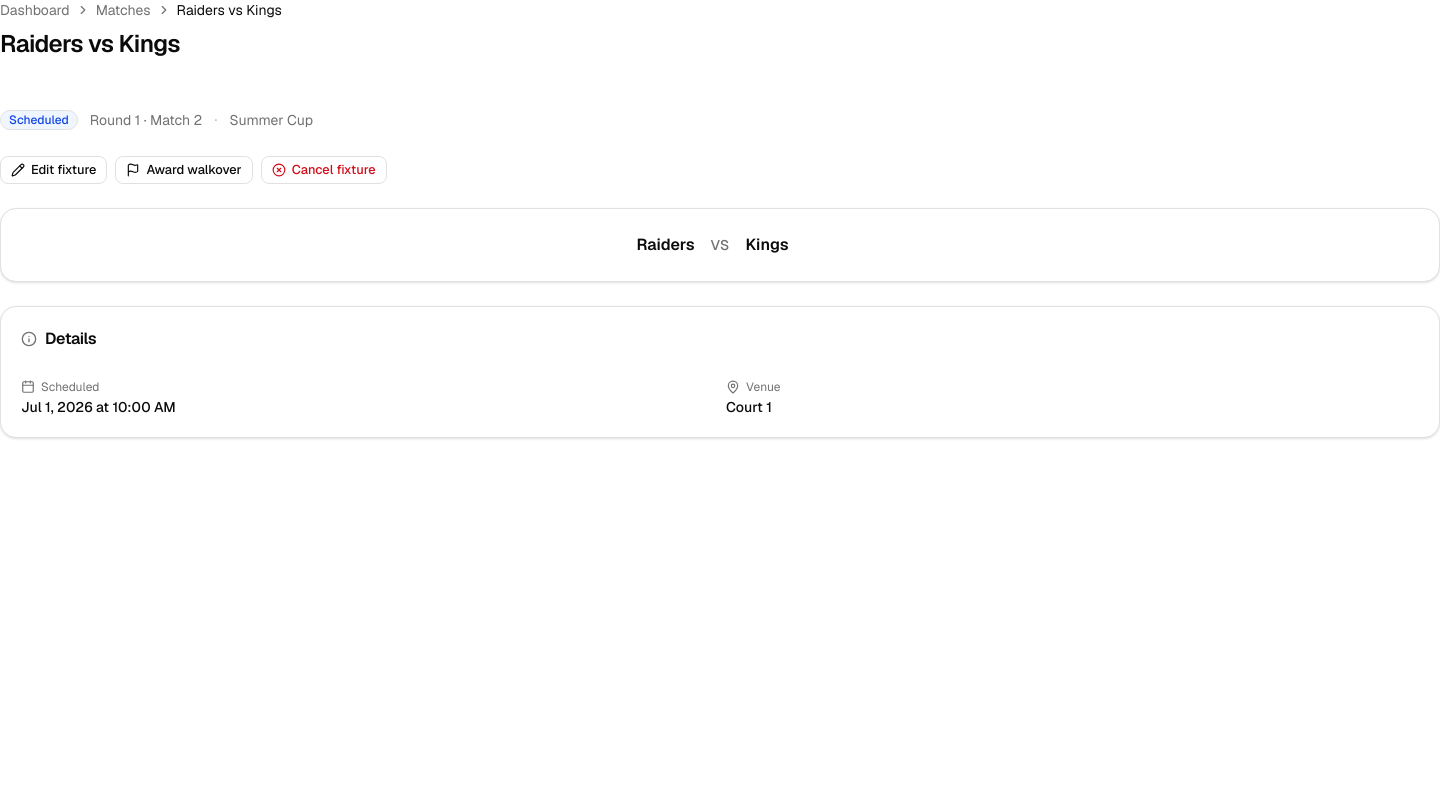
Test: MatchDetailPage — walkover › requires a winner and reason before the walkover can be submitted
Click the button "Award walkover" at x=184, y=170, box [115,156,253,184]
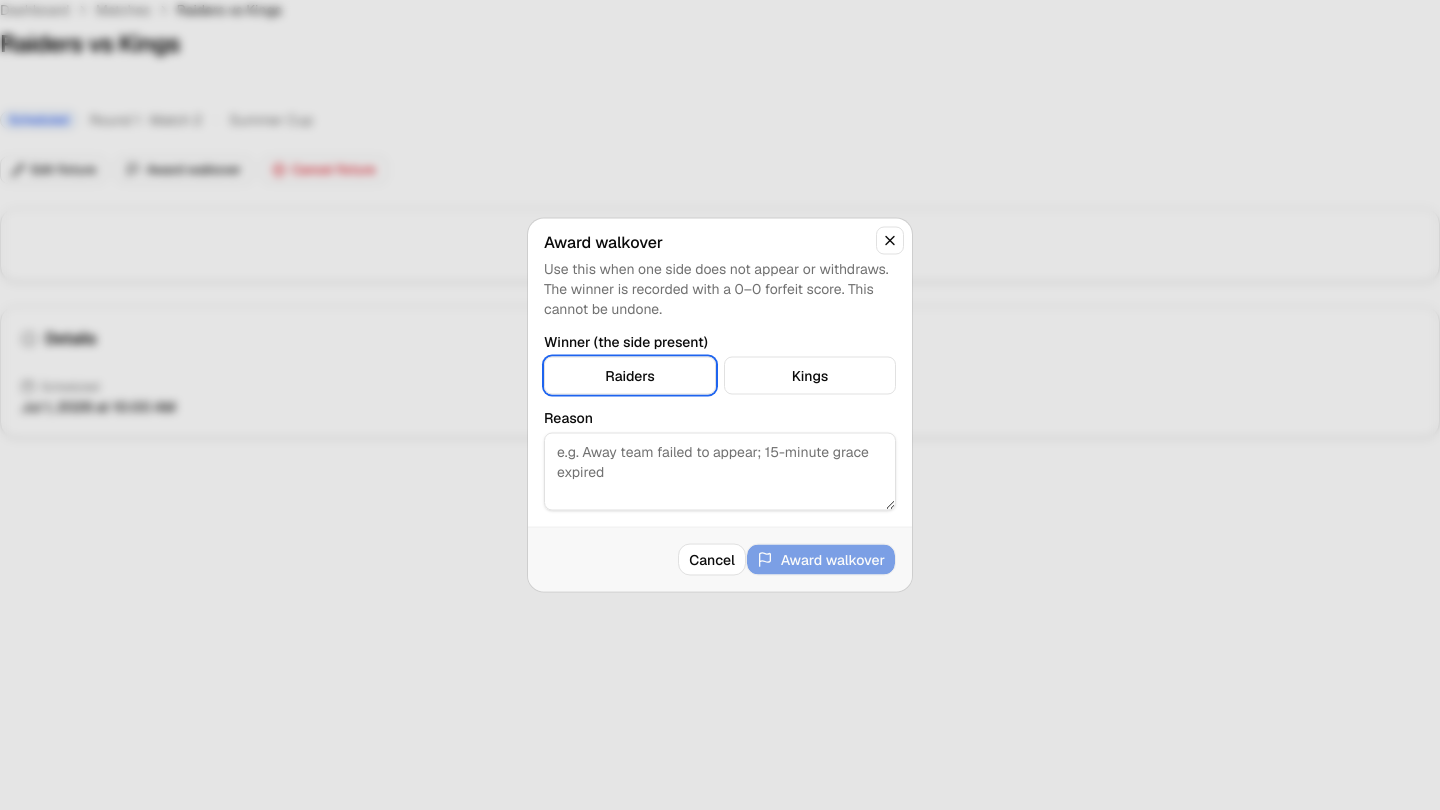
Expected: the button "Award walkover" is disabled, [746,544,896,576]
Click the button "Kings" at x=810, y=376, box [724,356,896,394]
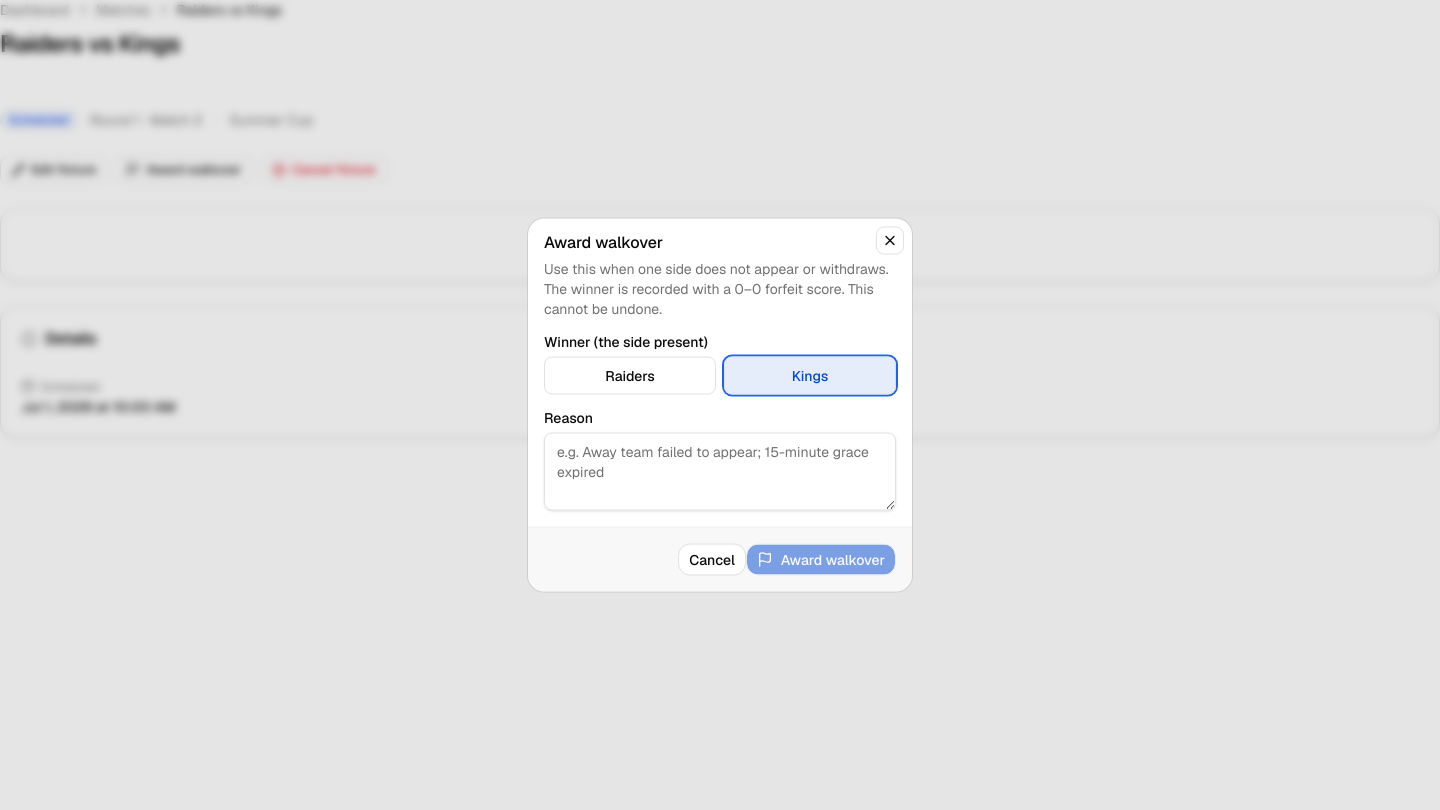
Expected: the button "Award walkover" is disabled, [746,544,896,576]
Type "Home team no-show" into the text box labelled "Reason" at x=720, y=472, box [544,432,896,510]
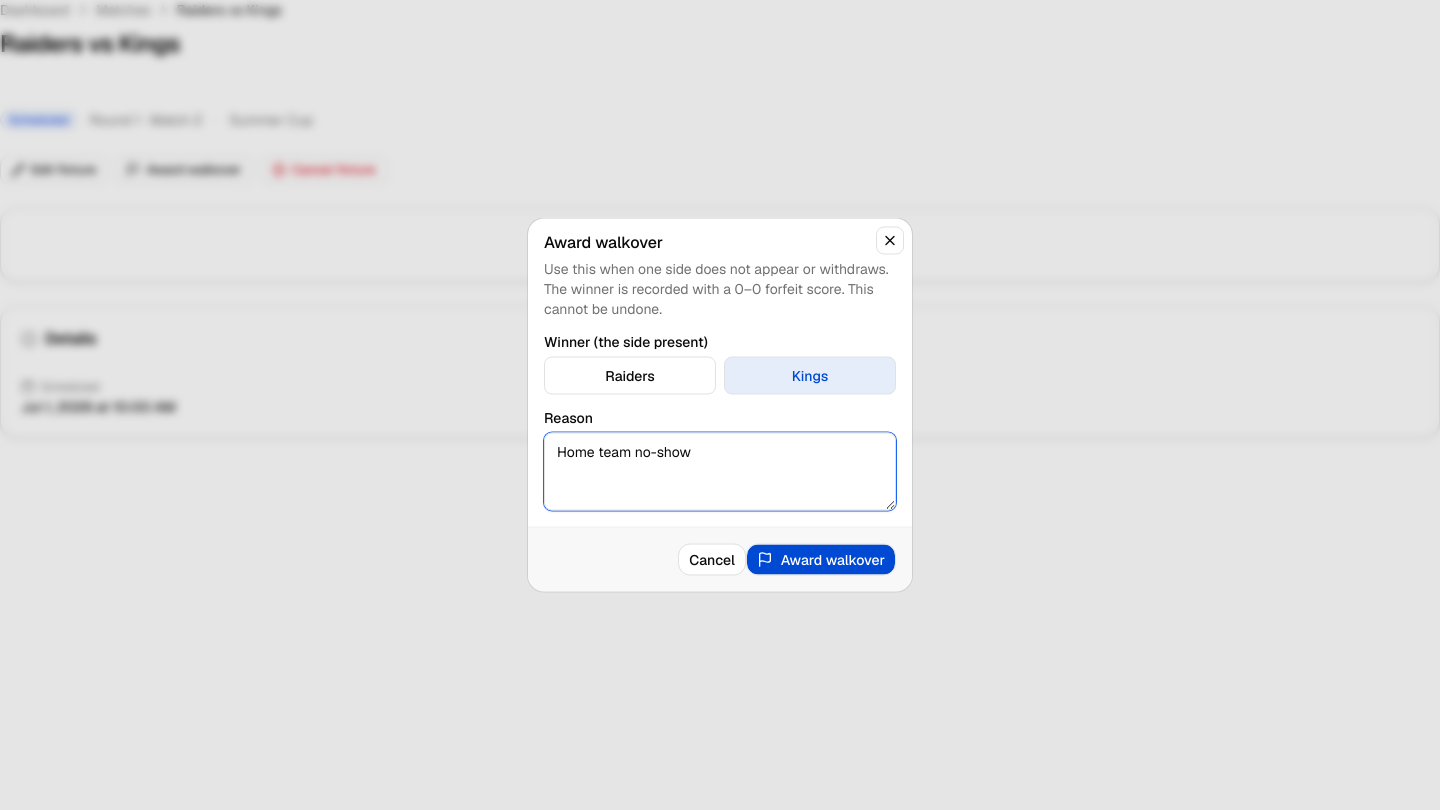
Expected: the button "Award walkover" is enabled, [746,544,896,576]
